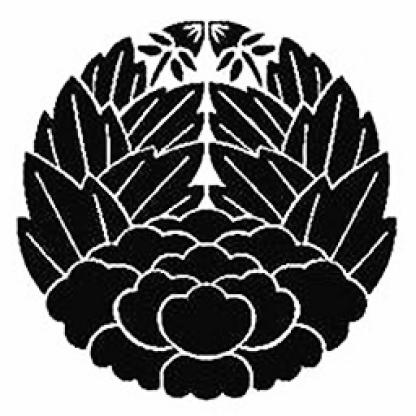kamon: (16, 20, 402, 398)
